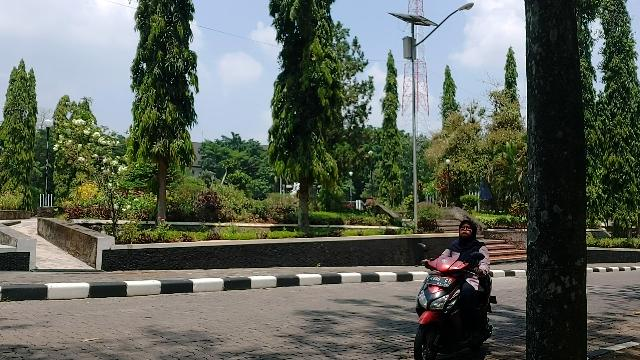motor: (415, 257, 498, 360)
non-helm: (460, 221, 478, 239)
